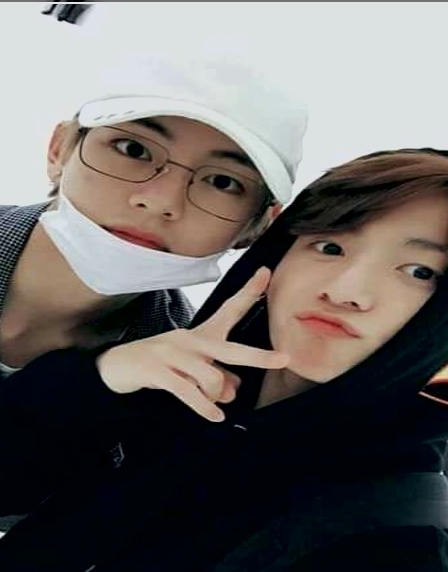mask_weared_incorrect: (49, 33, 304, 299)
